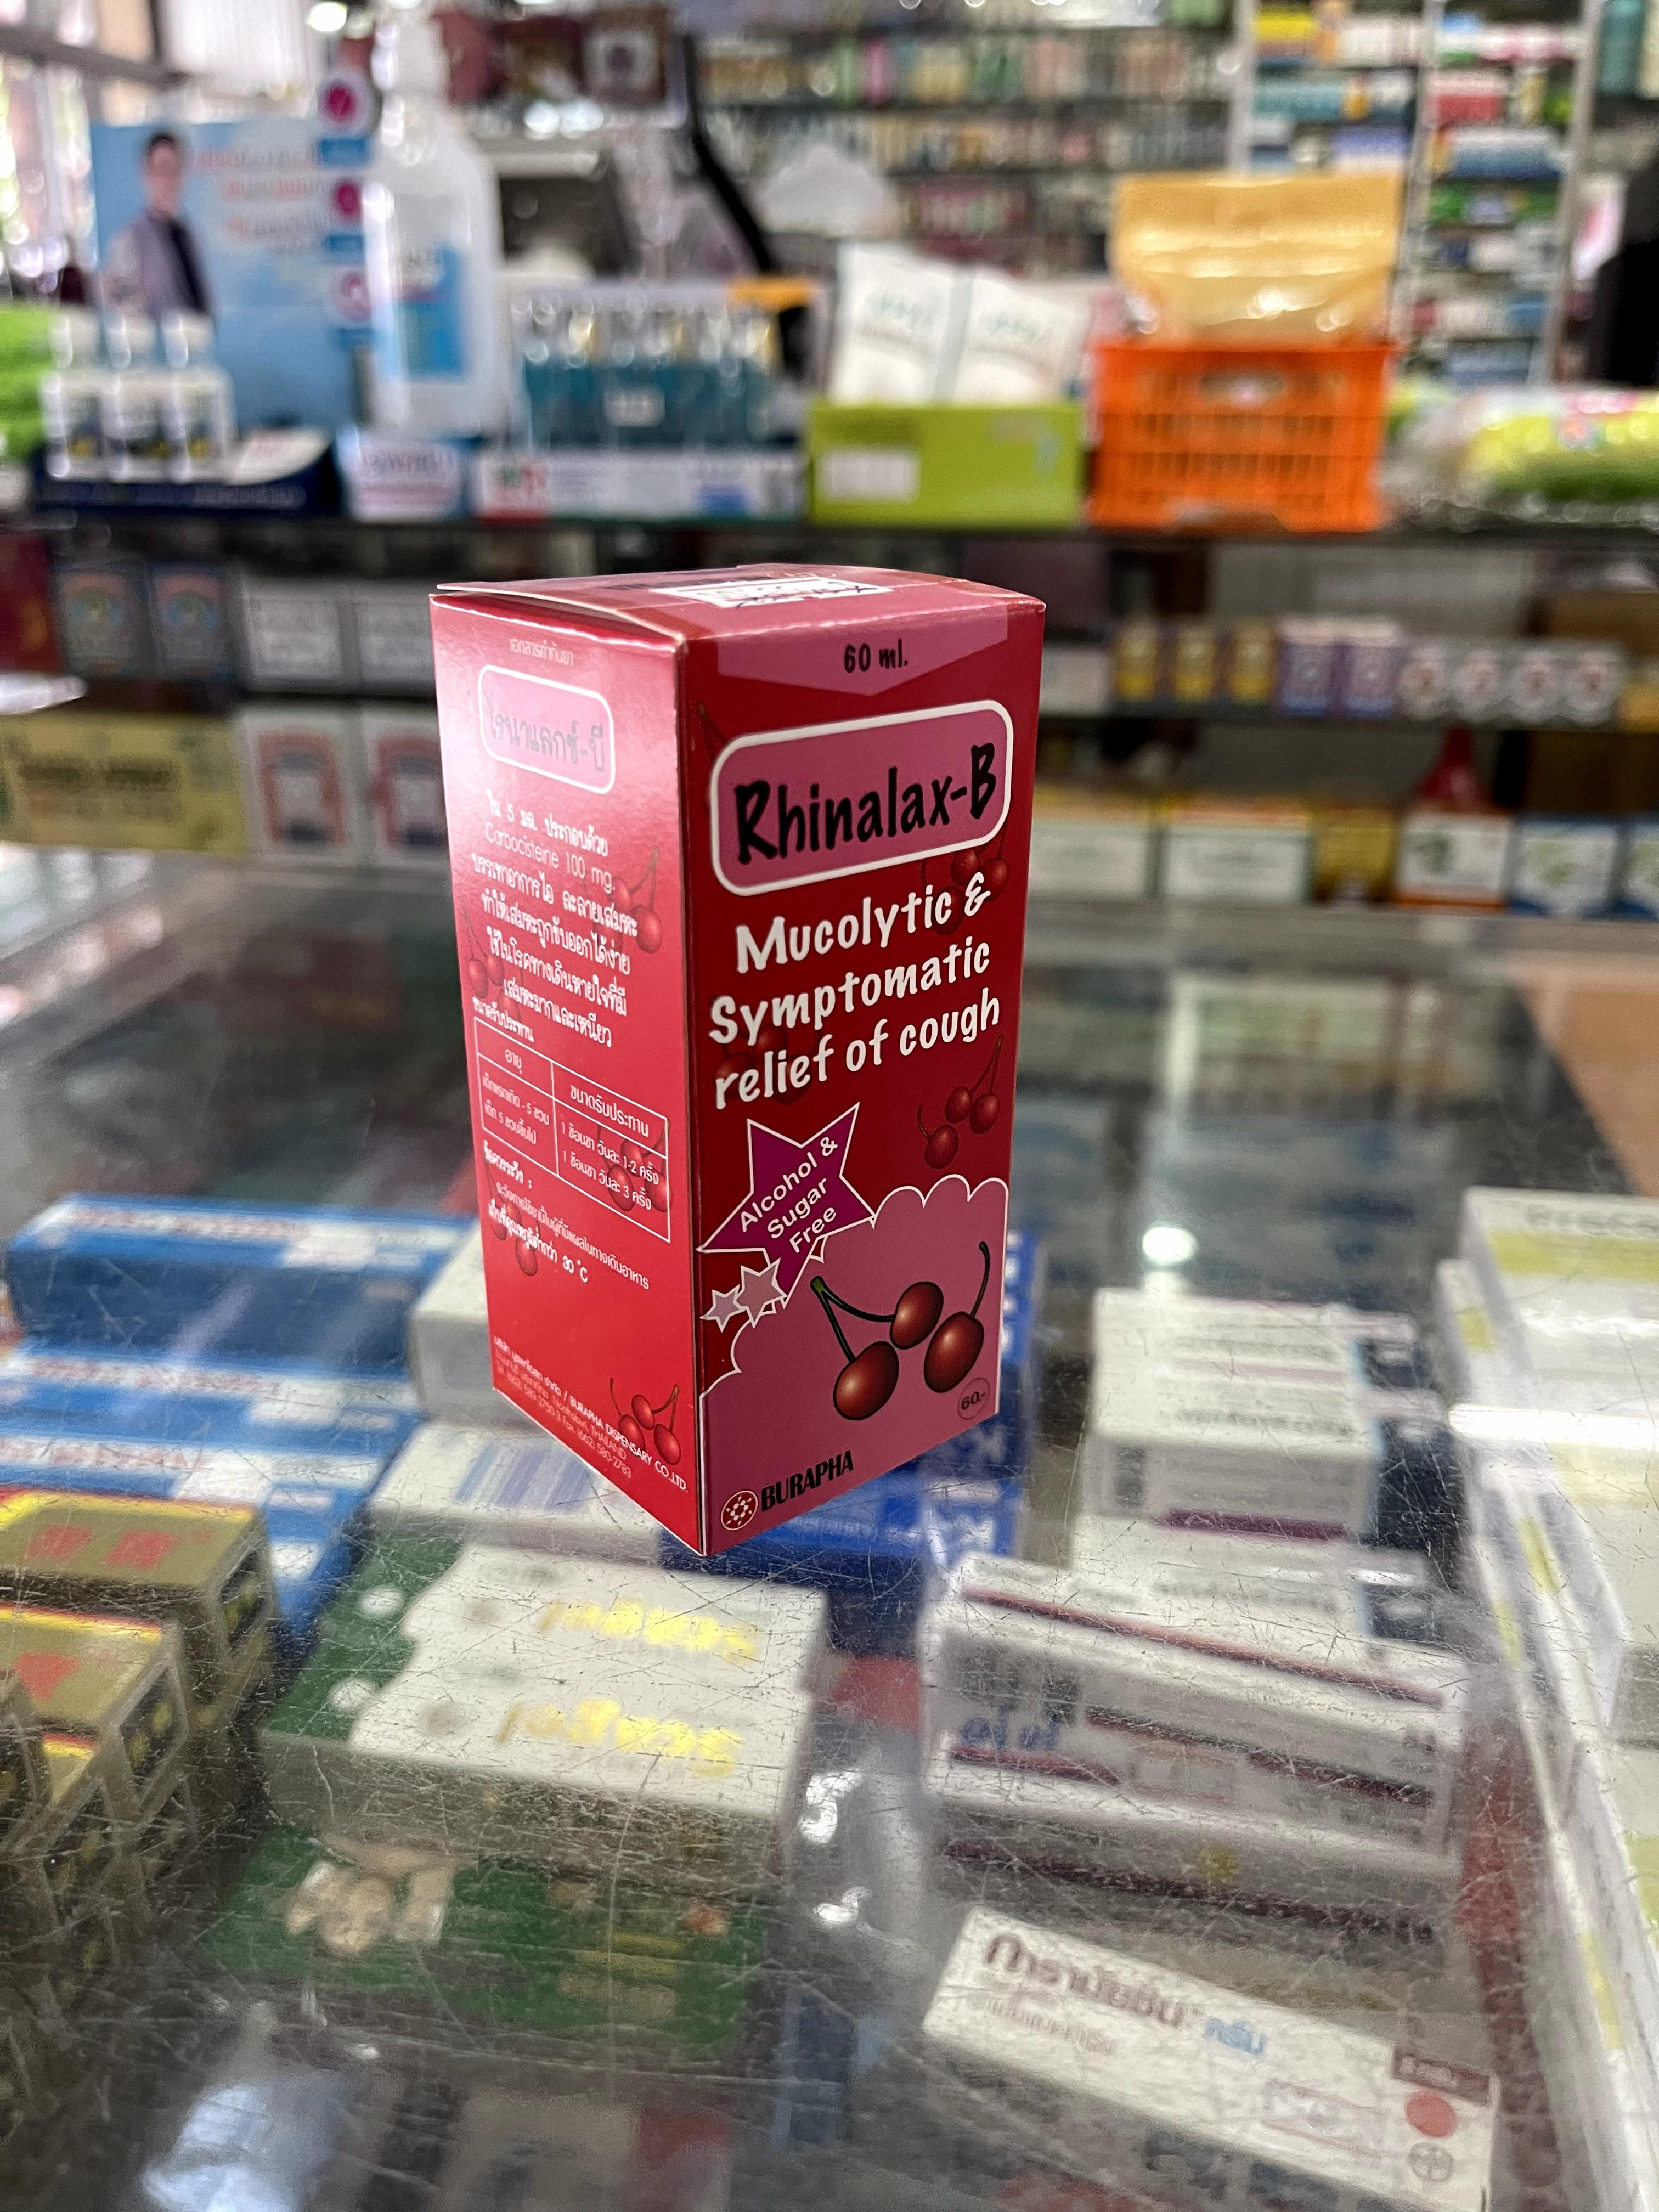Rhinalax-B: (436, 571, 1042, 1547)
